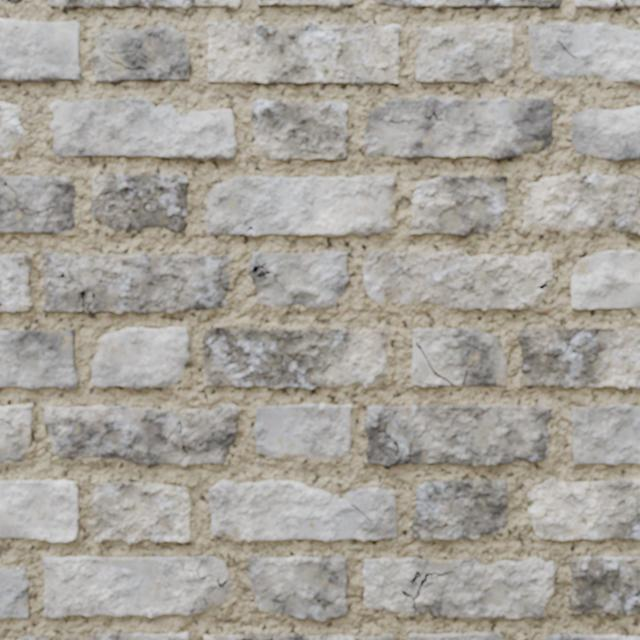crack: (363, 95, 553, 160), (207, 21, 399, 85), (44, 403, 239, 466), (40, 251, 232, 314), (49, 97, 237, 160), (205, 175, 395, 237), (363, 557, 556, 618), (42, 555, 231, 617), (364, 404, 552, 466), (203, 327, 389, 389), (208, 480, 397, 541), (363, 250, 552, 311), (518, 327, 639, 388), (521, 173, 639, 235), (527, 477, 639, 540), (529, 22, 639, 83), (249, 556, 347, 621), (92, 481, 190, 544), (250, 99, 349, 161), (415, 22, 514, 83), (91, 327, 190, 388), (91, 23, 191, 83), (412, 479, 508, 541), (91, 173, 189, 233), (411, 175, 507, 236), (248, 252, 349, 309), (410, 328, 506, 387), (254, 403, 351, 458), (0, 19, 81, 82), (0, 479, 78, 542), (0, 330, 79, 389), (0, 175, 75, 233), (568, 555, 639, 616), (571, 404, 639, 465), (571, 250, 639, 309), (572, 106, 639, 161), (0, 252, 33, 312), (0, 404, 33, 463), (48, 0, 241, 10), (373, 0, 561, 9), (0, 567, 29, 618), (0, 102, 22, 156), (203, 633, 393, 639), (256, 0, 353, 9), (91, 632, 189, 639), (408, 632, 502, 639), (537, 633, 639, 639), (575, 0, 639, 9), (17, 635, 36, 639), (7, 0, 21, 3), (39, 637, 47, 639)
